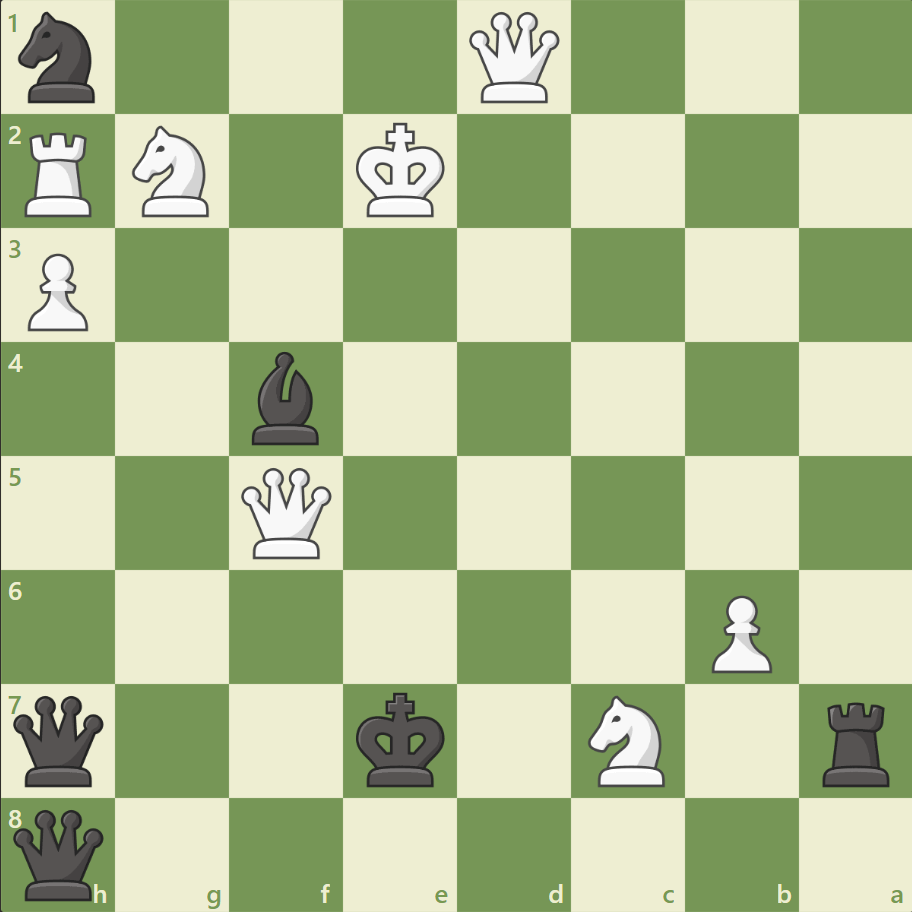K: (351, 117, 451, 225)
N: (124, 121, 222, 223), (579, 688, 676, 791)
P: (701, 586, 776, 677), (20, 246, 95, 337)
Q: (237, 463, 336, 562), (464, 9, 563, 108)
R: (19, 125, 102, 222)
b: (244, 347, 328, 449)
k: (351, 685, 451, 793)
n: (11, 7, 108, 110)
q: (10, 804, 109, 903), (10, 690, 109, 789)
r: (814, 693, 897, 790)
